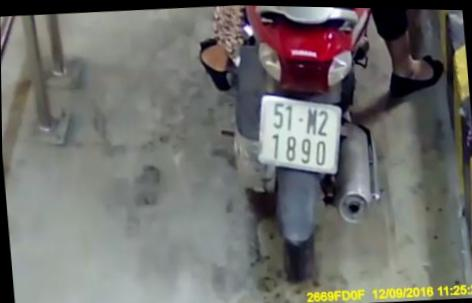LP: (258, 88, 347, 178)
